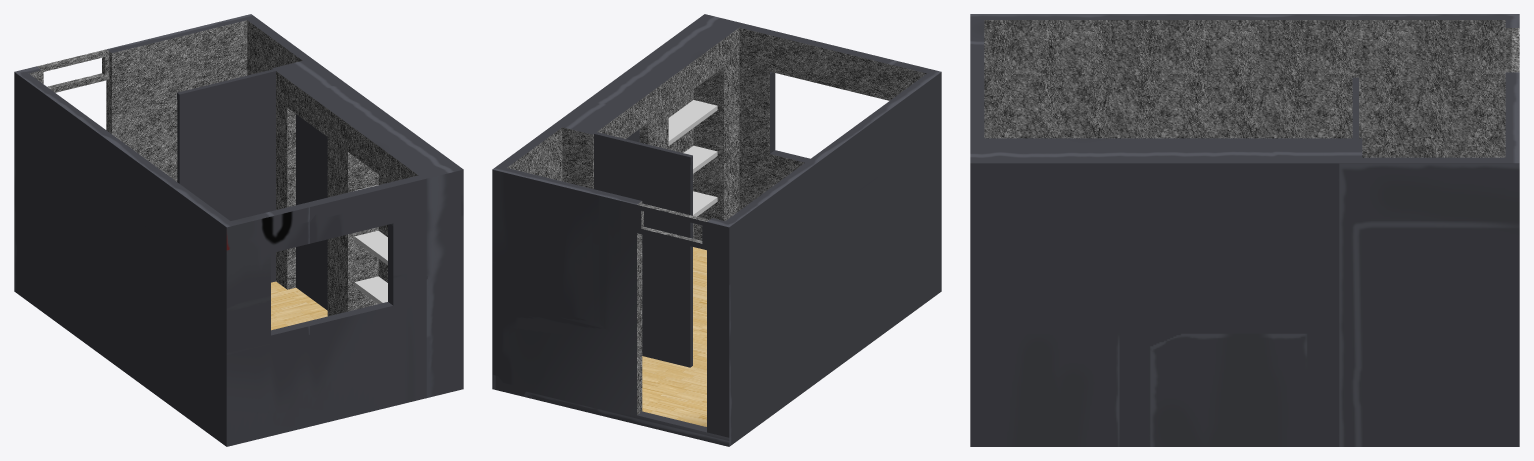
Rendered from temporaryHousing9.fbx.
3 renders of one model, left to right at view 1: azimuth 30°, elevation 25°; view 2: azimuth 150°, elevation 25°; view 3: azimuth 270°, elevation 25°, orthographic. The views are drawn at different scales.
Parts seen in each view (by area): view 1: temporaryhousing, temporaryhousingWallDevider, Box001, Box002; view 2: temporaryhousing, temporaryhousingWallDevider, Box003, Box001; view 3: temporaryhousing.
Boxes of the visible parts, x1,y1,x2,y2 form: temporaryhousing: (14,14,463,446); temporaryhousingWallDevider: (177,67,283,282); Box001: (354,230,387,265); Box002: (354,276,387,303); temporaryhousing: (492,14,941,446); temporaryhousingWallDevider: (586,130,692,367); Box003: (668,100,717,145); Box001: (683,145,717,173); temporaryhousing: (970,14,1519,446).
Bounding box in the file's own units: 107 × 94.49 × 166.
